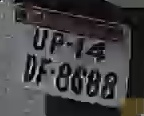1: (73, 35, 87, 60)
4: (87, 41, 108, 63)
6: (70, 66, 88, 93)
8: (101, 71, 121, 100), (85, 69, 103, 99), (55, 62, 72, 93)
D: (22, 53, 37, 83)
F: (37, 56, 53, 86)
P: (50, 33, 65, 57)
U: (33, 29, 49, 54)
